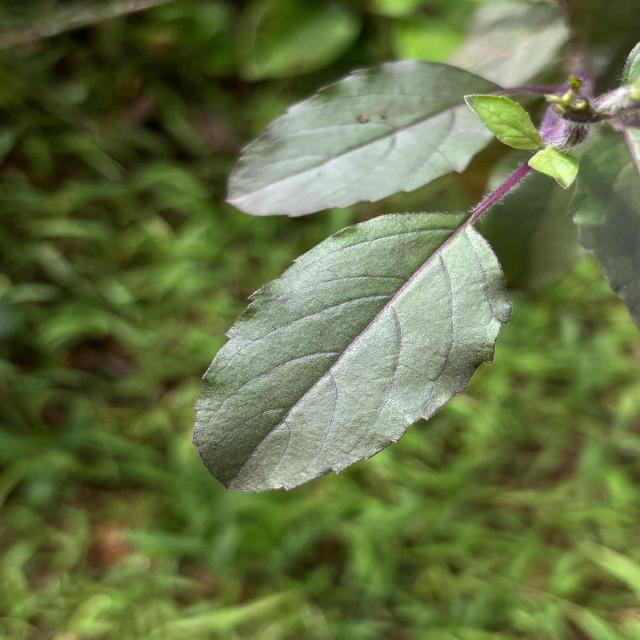Ocimum tenuiflorum: (184, 207, 518, 497)
